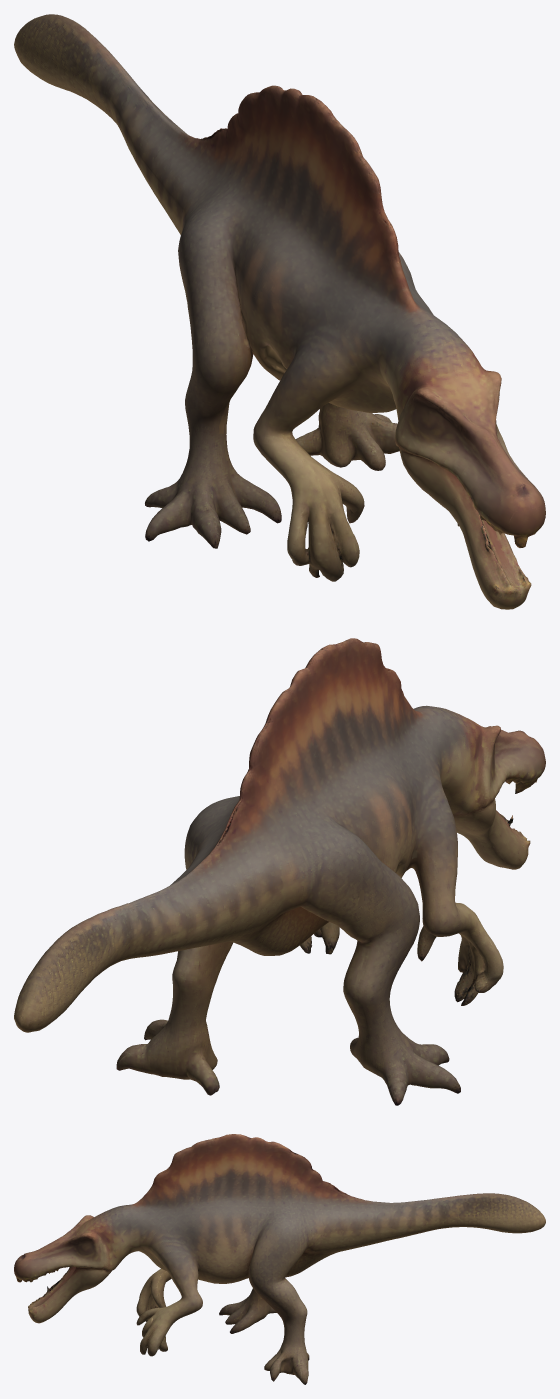
3 views of the same model, one above another, from view 1: azimuth 30°, elevation 25°; view 2: azimuth 150°, elevation 25°; view 3: azimuth 270°, elevation 25° (orthographic). The views are drawn at different scales.
Visible parts, largest first — view 1: world; view 2: world; view 3: world.
Boxes of the visible parts, x1,y1,x2,y2 form: world: (14, 14, 545, 609); world: (14, 638, 545, 1105); world: (14, 1134, 545, 1384).
Size of the model in its own units: 4.73 by 6.27 by 14.
Materials: 1 (1 with a texture image).
